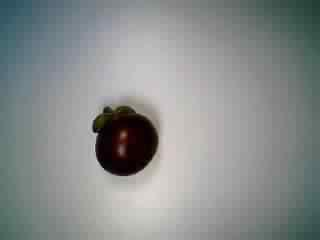mangosteen: (87, 102, 157, 177)
